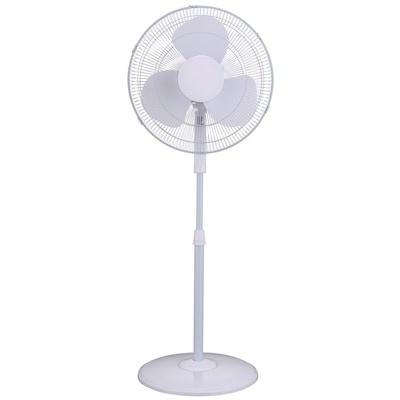fan: (112, 0, 284, 400)
